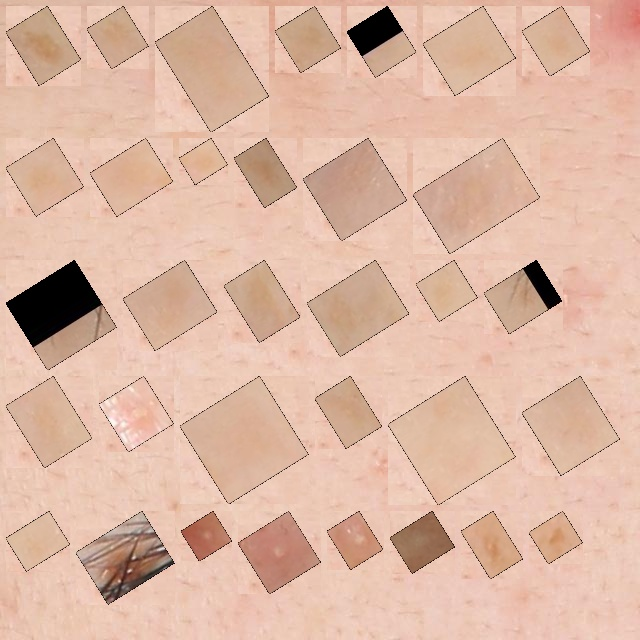hypertrophic_scar: (401, 522, 444, 562)
melasma: (191, 387, 297, 493), (399, 387, 504, 494), (424, 149, 529, 243), (166, 17, 258, 121), (17, 271, 106, 359), (314, 149, 396, 230), (318, 271, 398, 345), (533, 387, 609, 464), (134, 271, 206, 339), (434, 17, 505, 84), (17, 387, 81, 457), (101, 149, 162, 205), (235, 271, 289, 331), (17, 149, 73, 205), (17, 17, 70, 74), (495, 271, 551, 323), (358, 17, 405, 66), (326, 387, 371, 437), (533, 17, 579, 65), (286, 17, 330, 61), (245, 149, 286, 196), (472, 522, 512, 568), (98, 17, 137, 58), (17, 522, 59, 560), (427, 271, 466, 310), (540, 522, 572, 553), (190, 149, 217, 173)
nevus: (87, 522, 163, 593)
pustule: (249, 522, 310, 583), (110, 387, 163, 441), (338, 522, 372, 558), (192, 522, 221, 550)
